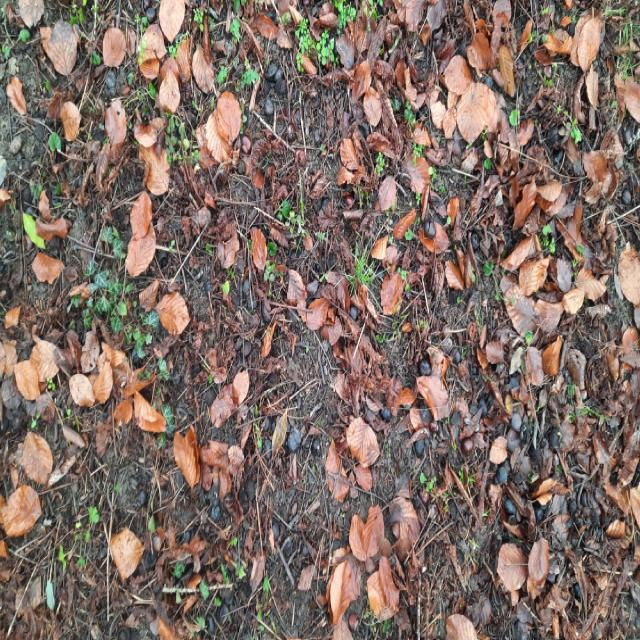grass: (0, 0, 639, 637), (168, 244, 172, 246)
